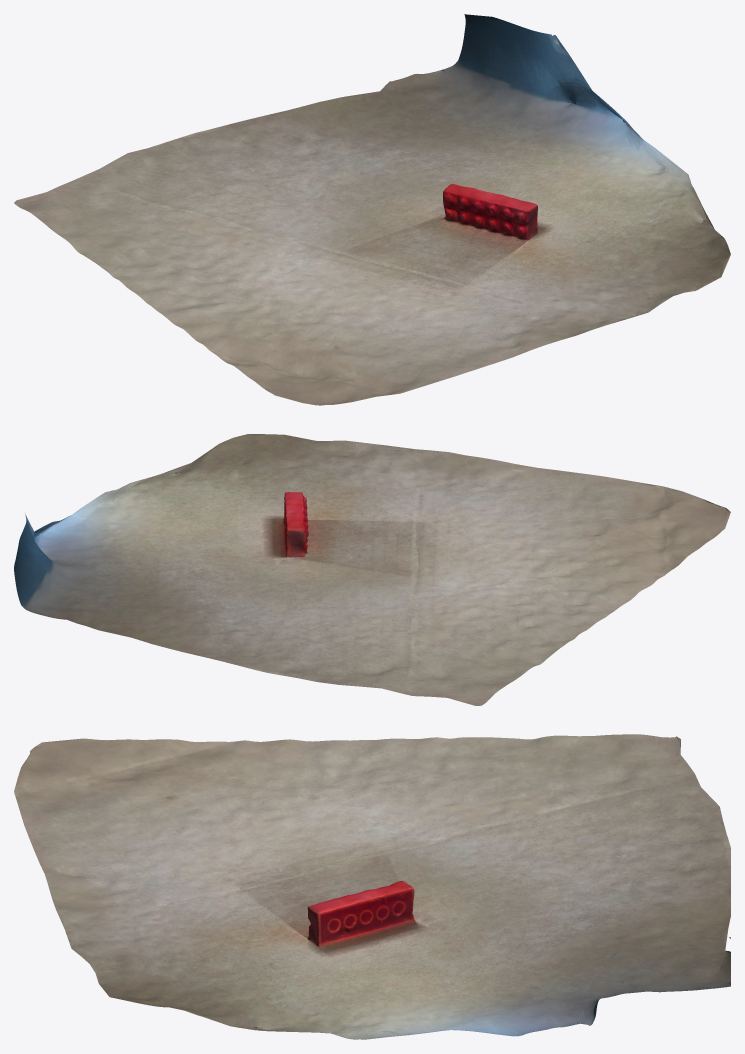
Rendered from red_side1.glb.
The picture shows the model from 3 angles, top to bottom: view 1: azimuth 30°, elevation 25°; view 2: azimuth 150°, elevation 25°; view 3: azimuth 270°, elevation 25°; orthographic projection. The views are drawn at different scales.
Size of the model in its own units: 0.2998 by 0.0375 by 0.302.
Materials: 1 (1 with a texture image).
